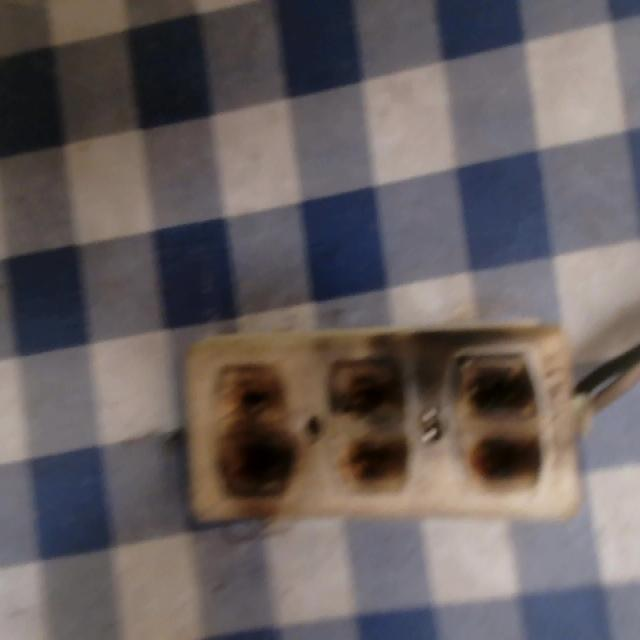-: (456, 354, 554, 506), (324, 351, 418, 493), (210, 355, 300, 492)
